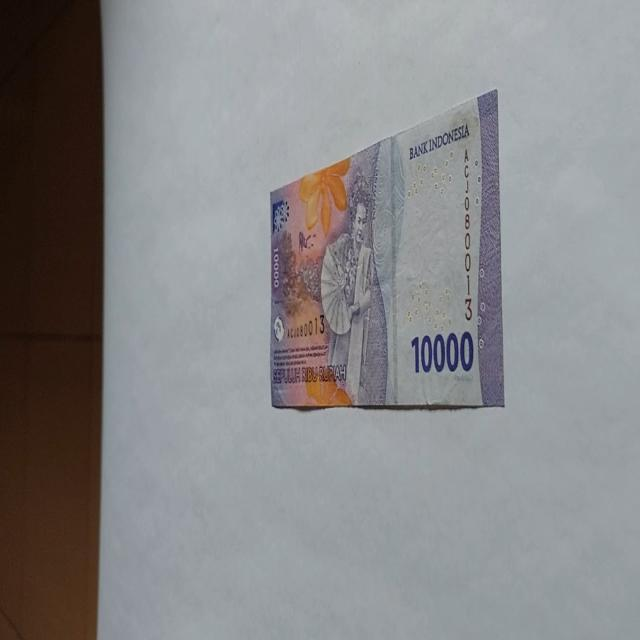sepuluh ribu rupiah: (268, 87, 504, 412), (408, 121, 470, 161)
